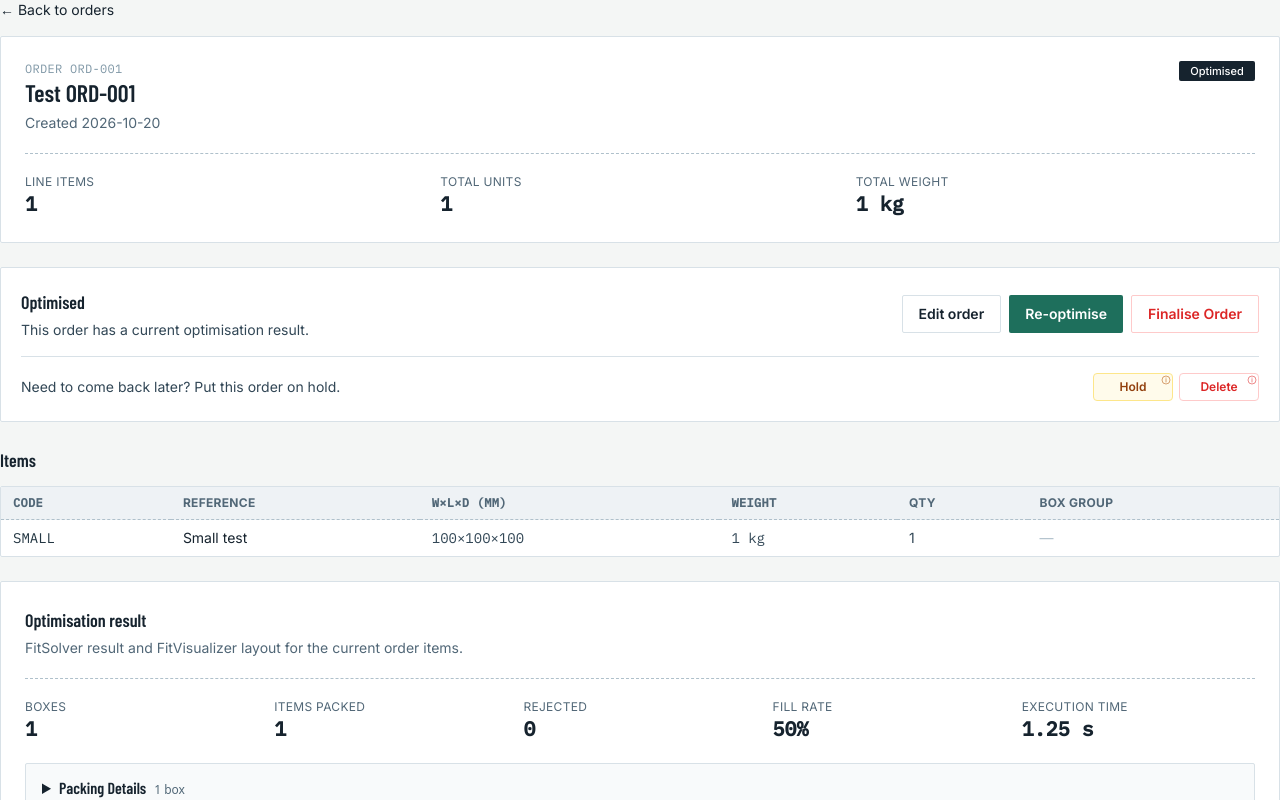
Scenario: order rejection display and recovery › changes a previously successful order to Rejected without a success banner
The width and height of the screenshot is (1280, 800).
Click the button "Re-optimise".
click(1066, 314)  # box x1=1009 y1=295 x2=1123 y2=333
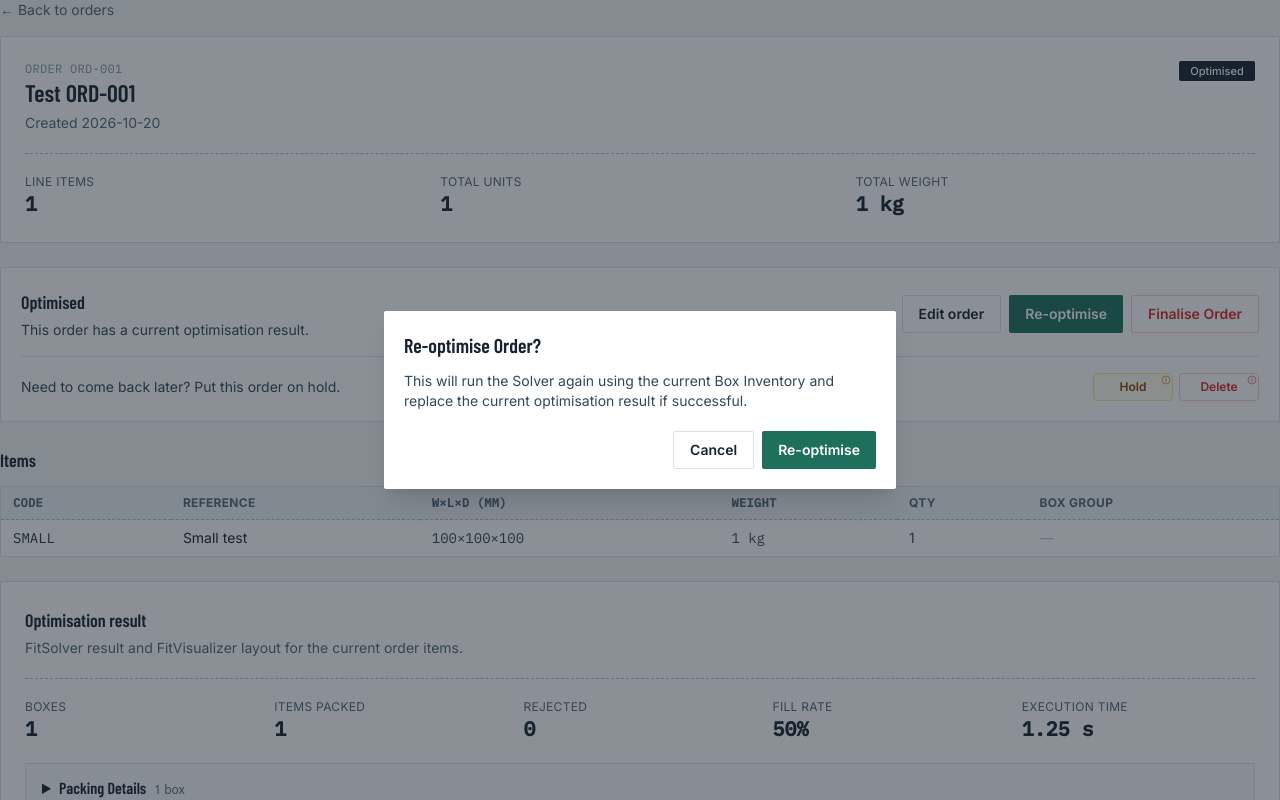
Click the button "Re-optimise".
click(819, 450)  # box x1=762 y1=431 x2=876 y2=469
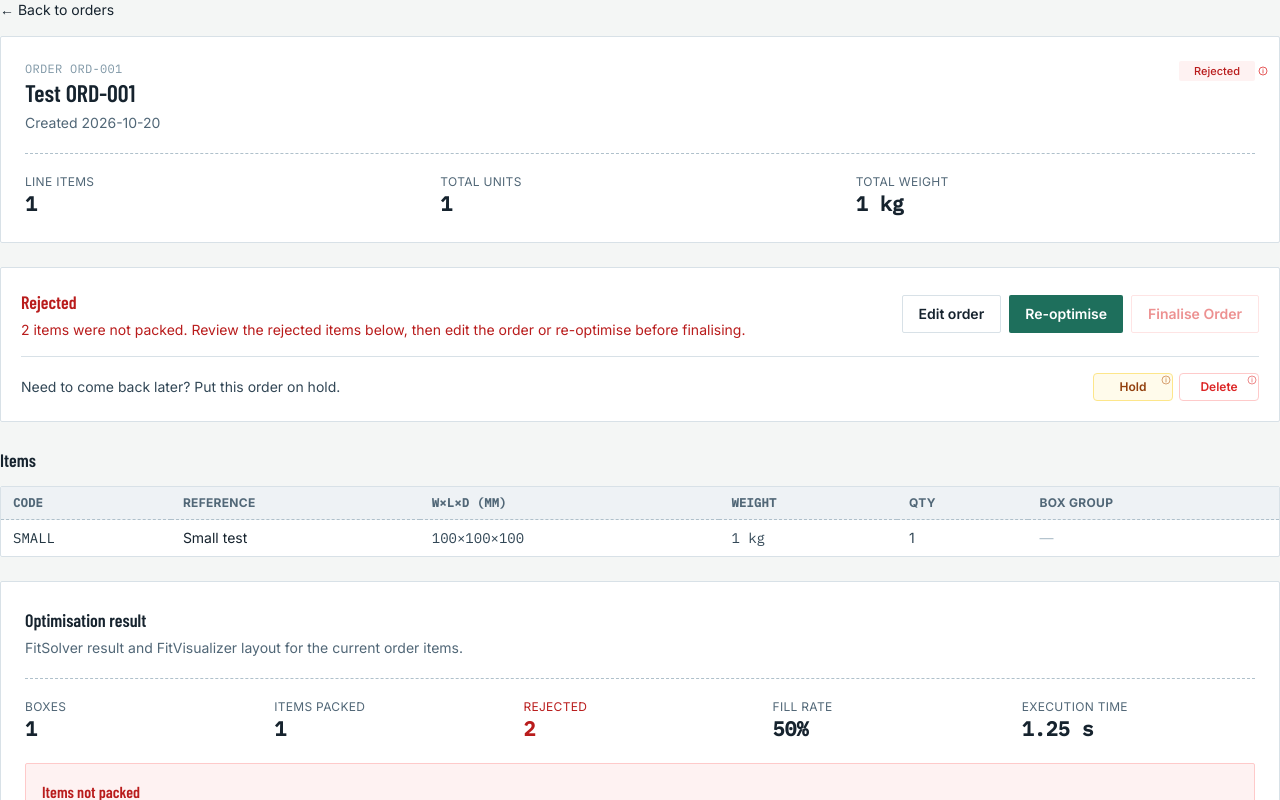
Result: the button "Finalise Order" is disabled at x1=1131 y1=295 x2=1259 y2=333
